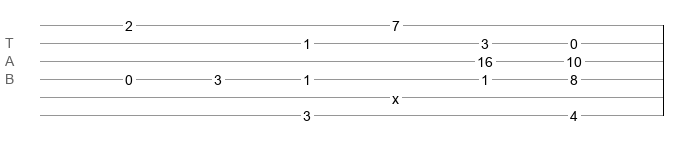0: (125, 72, 133, 82), (570, 36, 578, 46)
1: (303, 72, 311, 82), (303, 36, 311, 46), (481, 72, 489, 82)
10: (566, 54, 582, 64)
16: (477, 54, 493, 64)
2: (125, 18, 133, 28)
3: (214, 72, 222, 82), (303, 108, 311, 118), (481, 36, 489, 46)
4: (570, 108, 578, 118)
7: (392, 18, 400, 28)
8: (570, 72, 578, 82)
x: (392, 91, 399, 99)
